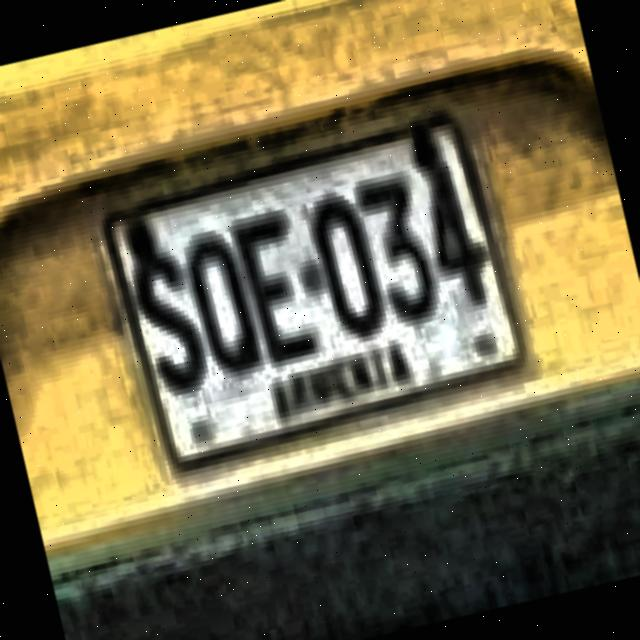0: (304, 185, 394, 348)
3: (356, 166, 449, 336)
4: (415, 158, 496, 314)
E: (229, 202, 324, 374)
Q: (174, 216, 270, 385)
S: (126, 246, 217, 399)
